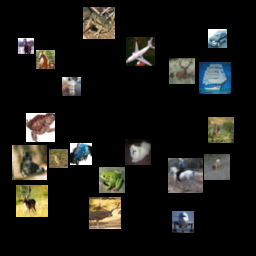airplane: (82, 207, 120, 245), (68, 67, 87, 86)
automobile: (145, 152, 180, 187), (90, 62, 116, 88), (131, 76, 147, 92)
bird: (154, 16, 189, 51)
cat: (200, 42, 232, 74)
deer: (209, 112, 235, 138)
dog: (21, 74, 53, 106), (78, 149, 107, 178), (195, 183, 224, 212), (208, 155, 224, 171)
frog: (183, 143, 205, 165), (35, 37, 54, 56)
ship: (7, 189, 39, 221), (196, 19, 215, 38)
